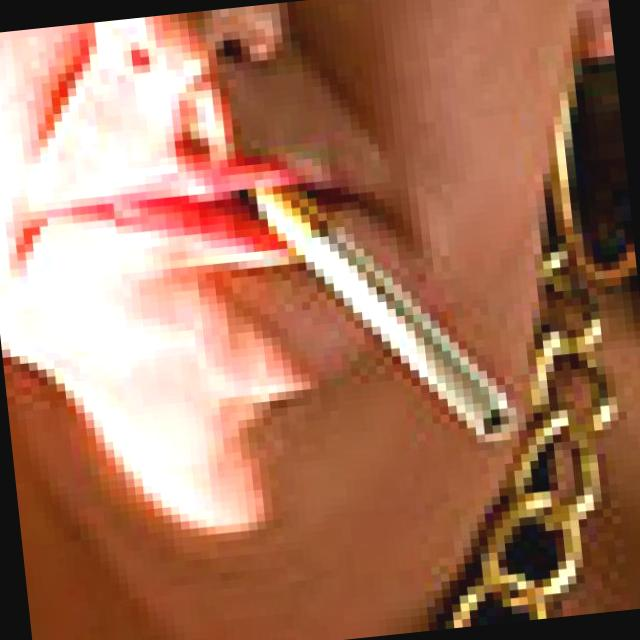smoke: (253, 148, 518, 446)
